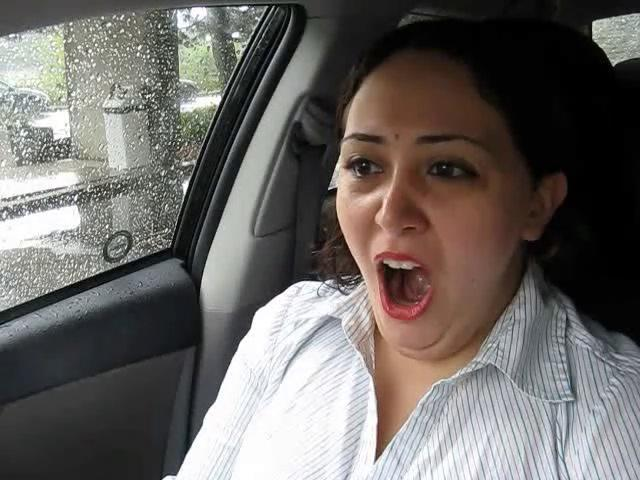open_eyeL: (334, 146, 399, 193)
open_eyeR: (410, 145, 497, 196)
yawn: (353, 249, 457, 328)
